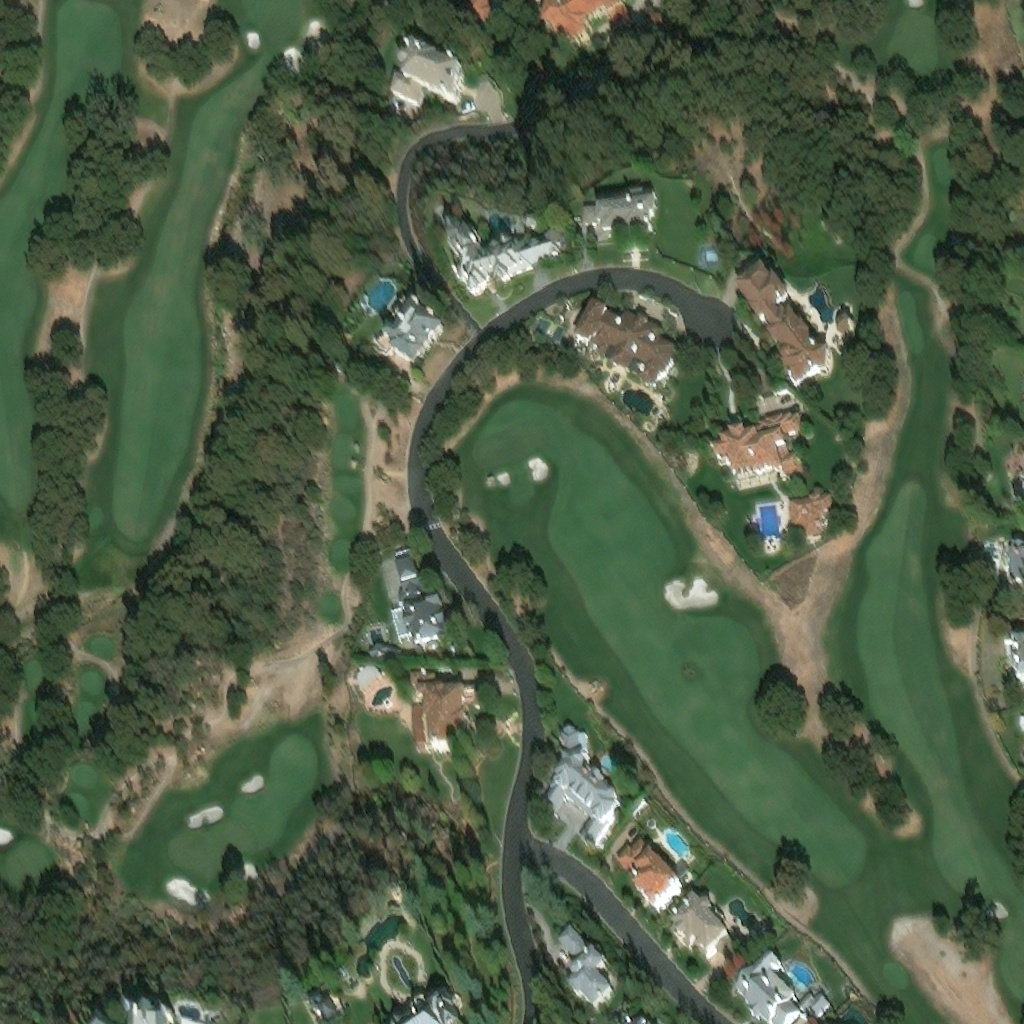0 no-damage: (736, 263, 828, 380), (573, 295, 678, 390), (543, 734, 627, 852), (440, 208, 564, 279), (712, 405, 802, 482), (732, 953, 831, 1023), (392, 548, 453, 660), (384, 39, 461, 110), (411, 678, 486, 748), (553, 918, 611, 1004), (366, 279, 436, 345), (614, 838, 680, 908), (665, 894, 736, 958), (539, 0, 632, 47), (577, 181, 654, 237), (374, 978, 462, 1023), (787, 484, 831, 536), (300, 977, 338, 1017), (1005, 630, 1023, 680), (126, 1006, 172, 1023), (642, 8, 670, 34), (1008, 539, 1023, 587), (372, 648, 404, 667), (463, 0, 491, 19), (835, 312, 854, 332), (332, 420, 349, 441), (177, 1012, 203, 1023), (91, 1012, 111, 1023)
4 un-classified: (136, 0, 177, 20), (6, 0, 28, 12)
